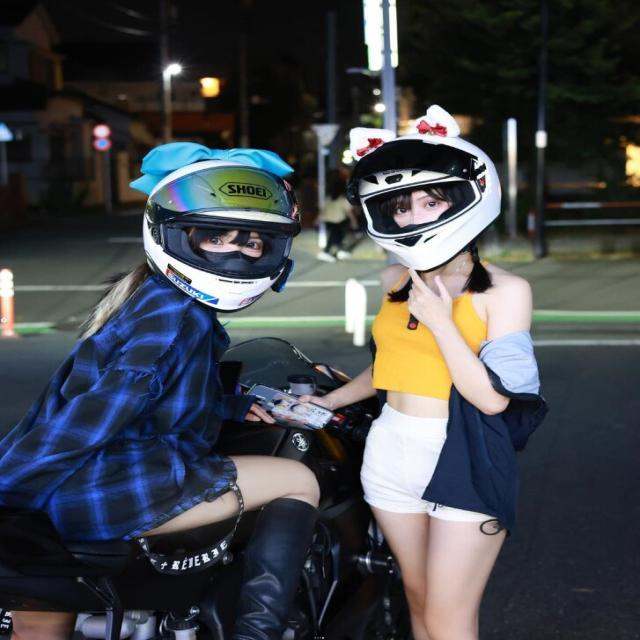helmet: (136, 155, 305, 317), (342, 128, 506, 278)
